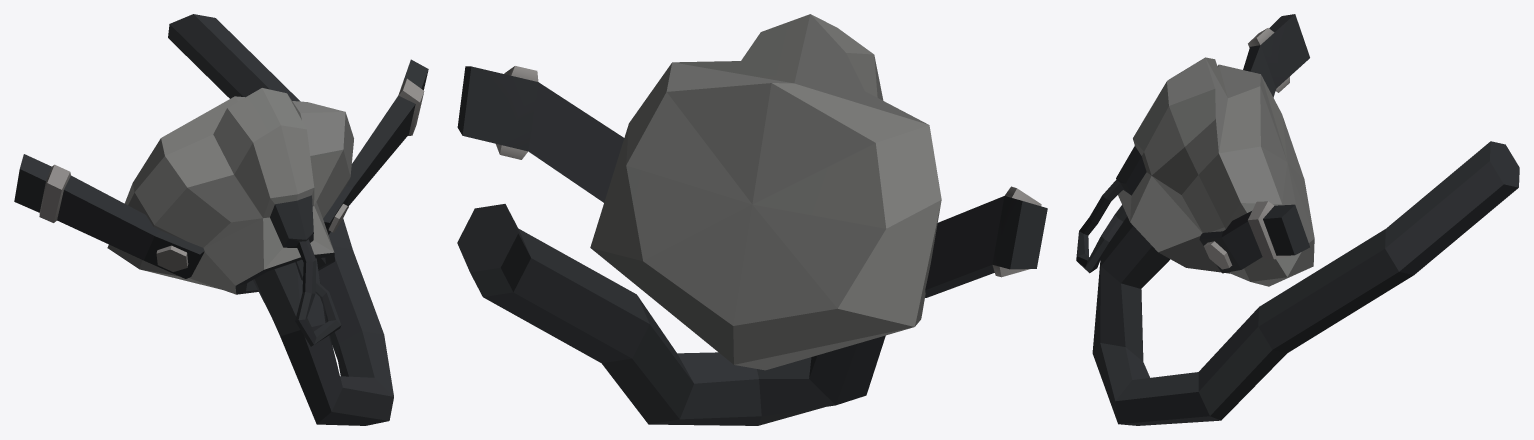
Rendered from SM_Char_Attach_Pilot_Helmet_01_Face.fbx.
3 renders of one model, left to right at view 1: azimuth 30°, elevation 25°; view 2: azimuth 150°, elevation 25°; view 3: azimuth 270°, elevation 25°, orthographic. The views are drawn at different scales.
Parts seen in each view (by area): view 1: SM_Char_Attach_Pilot_Helmet_01_Face; view 2: SM_Char_Attach_Pilot_Helmet_01_Face; view 3: SM_Char_Attach_Pilot_Helmet_01_Face.
Part boxes in pixels (bbox=[...]): SM_Char_Attach_Pilot_Helmet_01_Face: bbox=[14, 14, 428, 425]; SM_Char_Attach_Pilot_Helmet_01_Face: bbox=[457, 14, 1047, 425]; SM_Char_Attach_Pilot_Helmet_01_Face: bbox=[1076, 14, 1519, 425].
Bounding box in the file's own units: 34.02 × 26.3 × 31.66.
